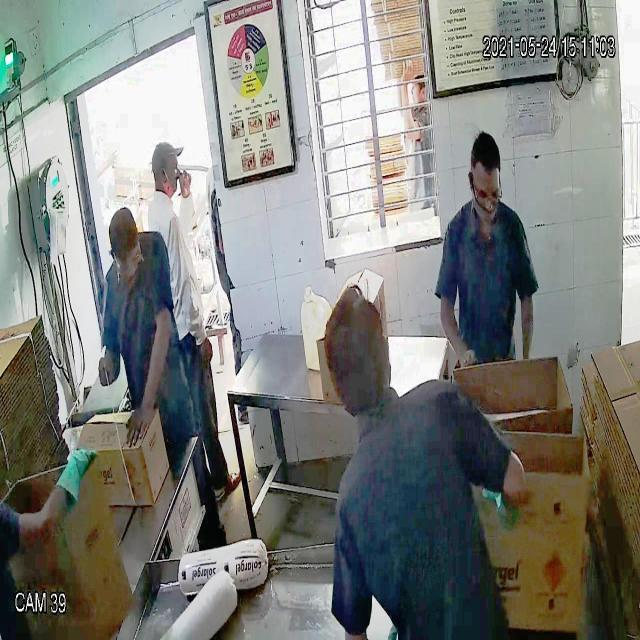glasses: (466, 170, 506, 212)
